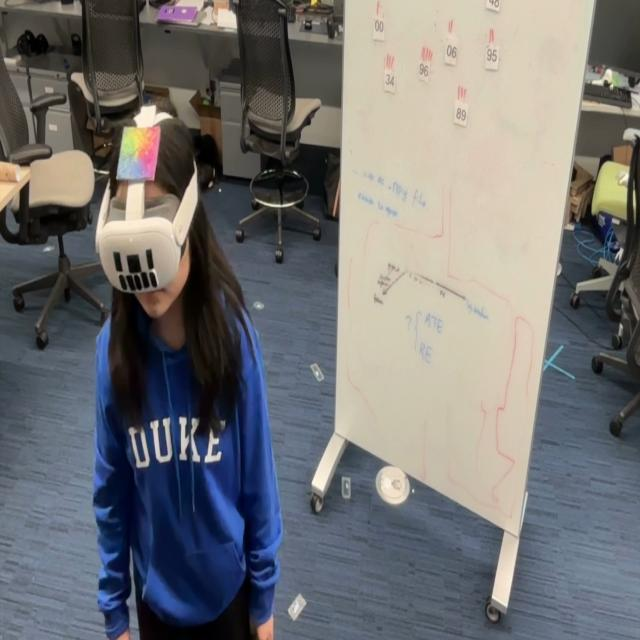Headset: (95, 149, 199, 294)
Marker: (115, 122, 161, 184)
